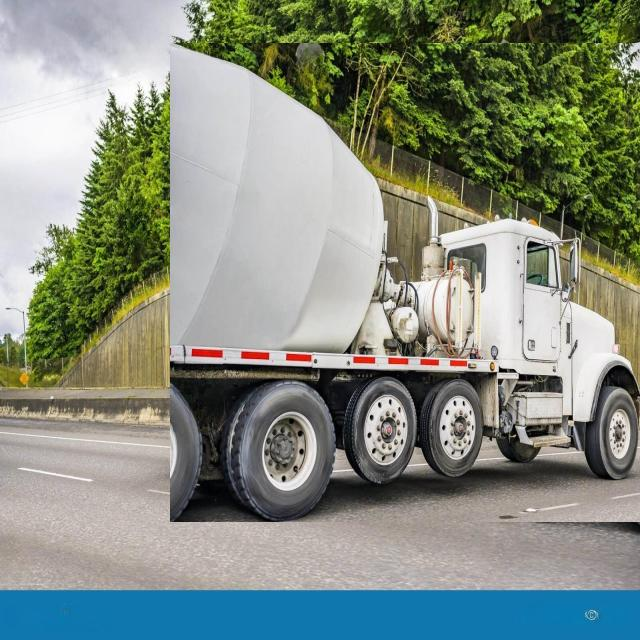truck: (170, 43, 640, 522)
